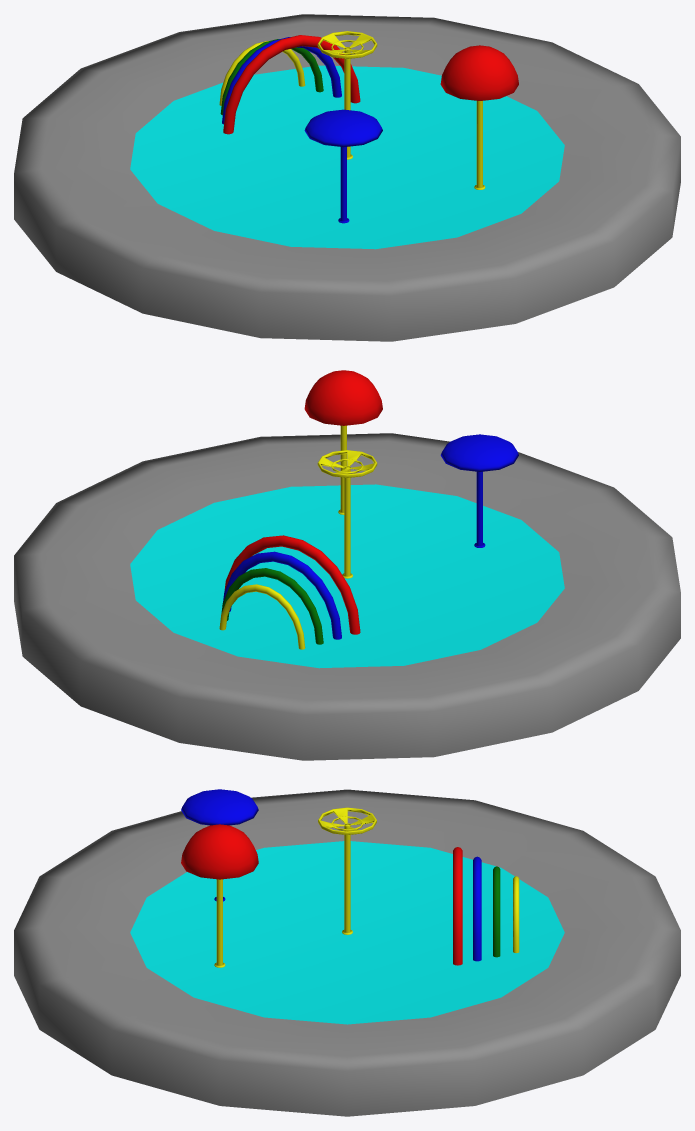
The model's file is splashpad.fbx.
The picture shows the model from 3 angles, top to bottom: view 1: azimuth 30°, elevation 25°; view 2: azimuth 150°, elevation 25°; view 3: azimuth 270°, elevation 25°; orthographic projection.
Parts seen in each view (by area): view 1: SplashPad_base, Rings, Fountain_1_top1, Fountain_1_top, Fountain_2_ring, Fountain_1_base, Fountain_1_base1; view 2: SplashPad_base, Rings, Fountain_1_top1, Fountain_1_top, Fountain_2_ring, Fountain_2_base; view 3: SplashPad_base, Rings, Fountain_1_top1, Fountain_1_top, Fountain_2_ring, Fountain_2_base, Fountain_1_base.
Boxes of the visible parts, bbox=[...] form: SplashPad_base: bbox=[14, 14, 680, 341]; Rings: bbox=[219, 35, 360, 134]; Fountain_1_top1: bbox=[440, 45, 518, 100]; Fountain_1_top: bbox=[304, 109, 382, 147]; Fountain_2_ring: bbox=[317, 31, 377, 58]; Fountain_1_base: bbox=[474, 101, 485, 189]; Fountain_1_base1: bbox=[338, 147, 349, 223]; SplashPad_base: bbox=[14, 433, 680, 760]; Rings: bbox=[219, 535, 360, 649]; Fountain_1_top1: bbox=[304, 370, 382, 425]; Fountain_1_top: bbox=[440, 434, 518, 471]; Fountain_2_ring: bbox=[317, 450, 377, 477]; Fountain_2_base: bbox=[342, 466, 352, 578]; SplashPad_base: bbox=[14, 789, 680, 1116]; Rings: bbox=[453, 847, 519, 965]; Fountain_1_top1: bbox=[181, 824, 258, 879]; Fountain_1_top: bbox=[181, 789, 258, 825]; Fountain_2_ring: bbox=[318, 807, 376, 835]; Fountain_2_base: bbox=[342, 823, 352, 934]; Fountain_1_base: bbox=[214, 879, 225, 967].
Bounding box in the file's own units: 25.69 × 7.69 × 25.69.
